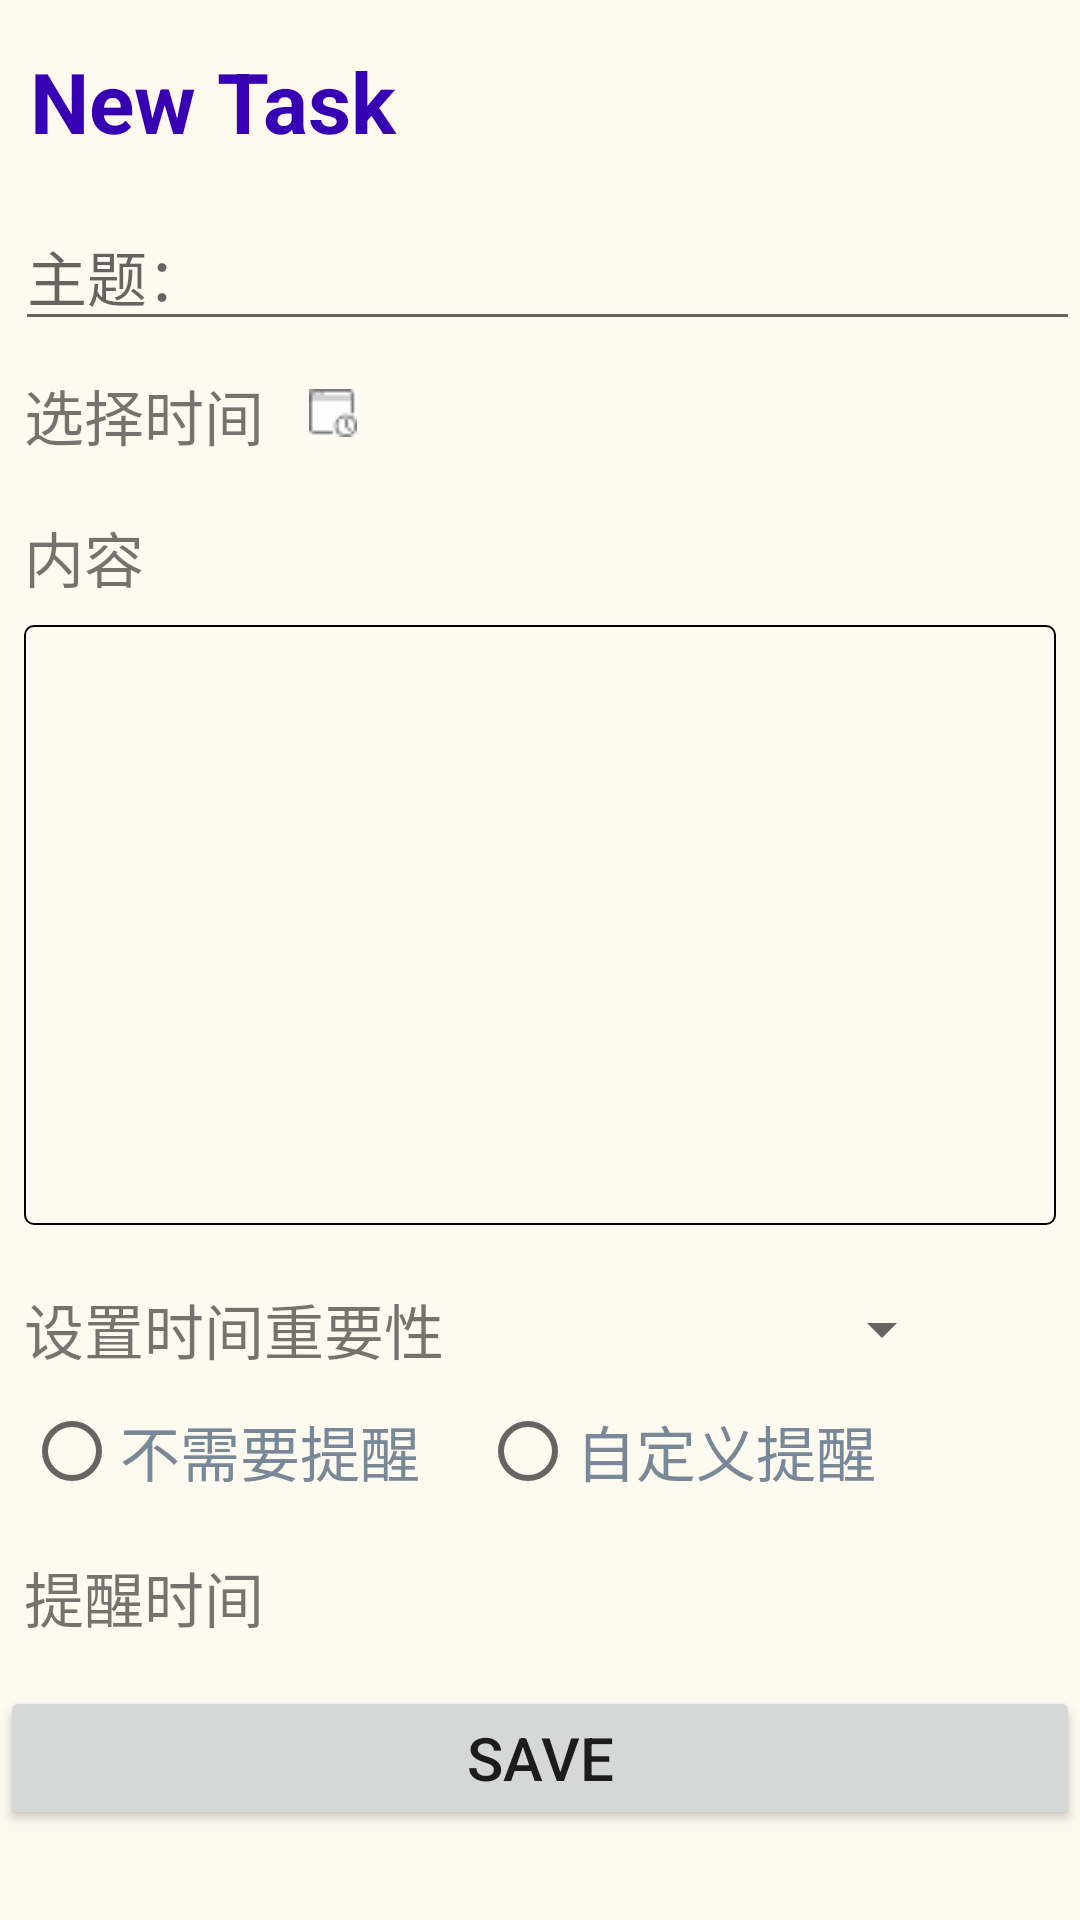

Named icons in this screenshot (1080×1920) and their bounding boxes, bbox(x1, y1, x2, y2):
choose time: bbox(309, 389, 357, 437)
